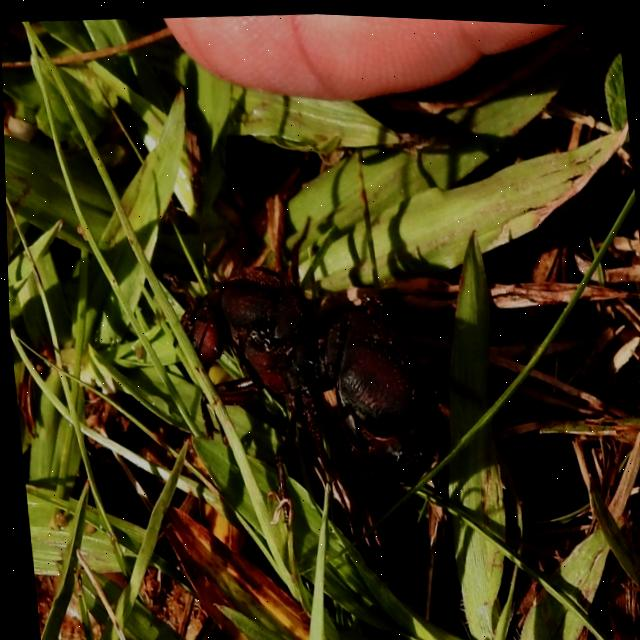Alive-Female-Dealate: (155, 133, 494, 554)
